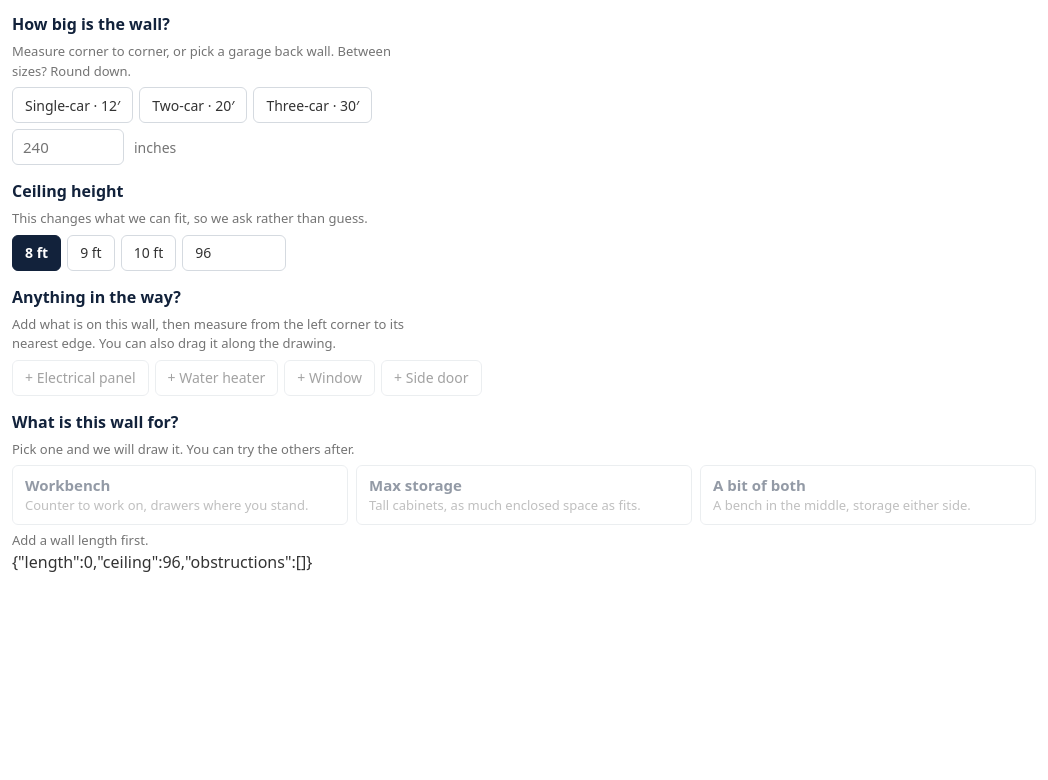
Scenario: WallInputs › allows more than one of the same thing
Type "360" into the number field named "wall length in inches". click: (68,147)
box: [12, 129, 124, 165]
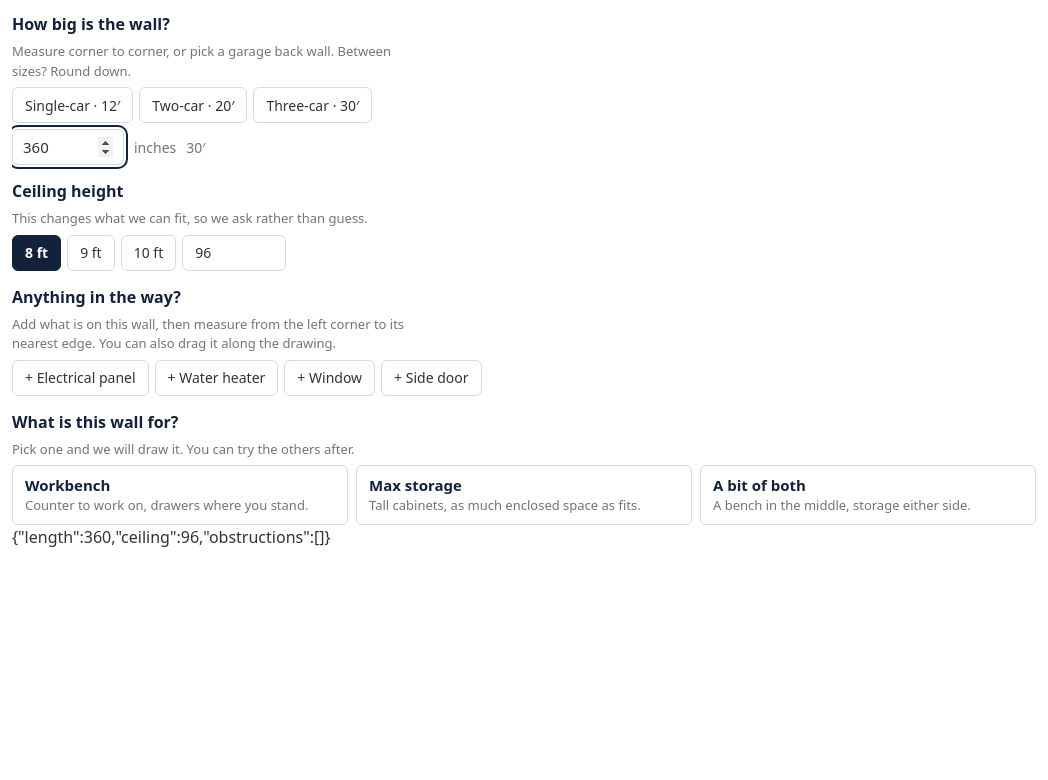
Click the button with aria-label "add window". click: (330,378)
box: [284, 360, 375, 396]
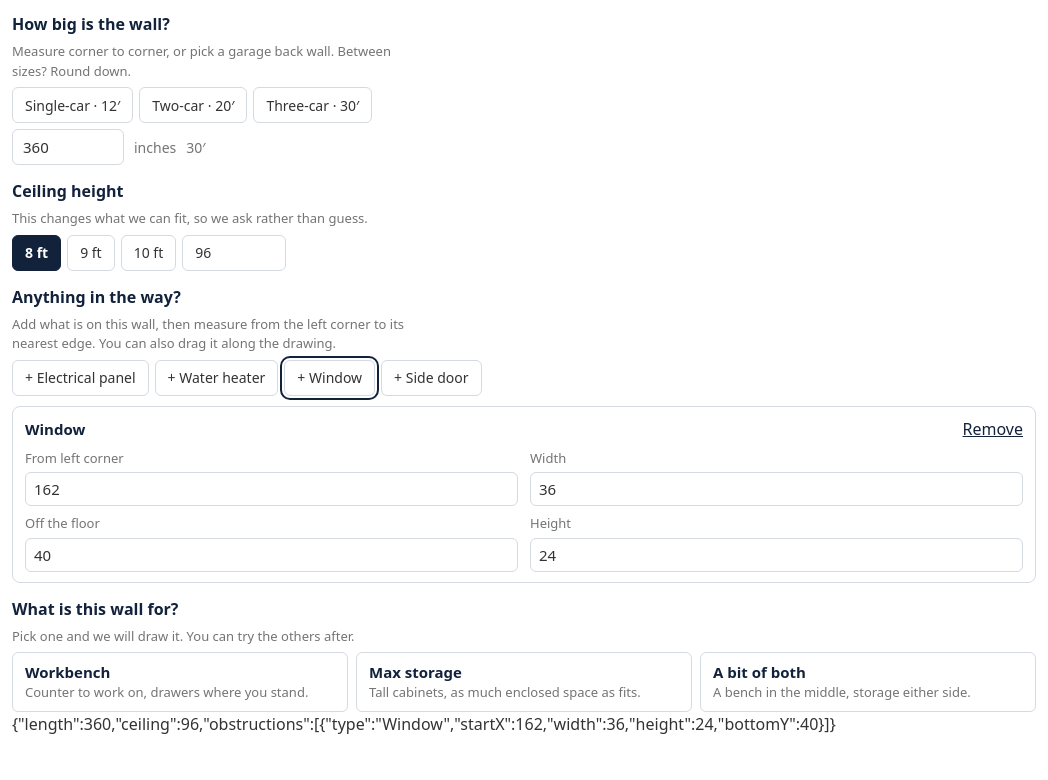
Click the button with aria-label "add window". click: (330,378)
box: [284, 360, 375, 396]
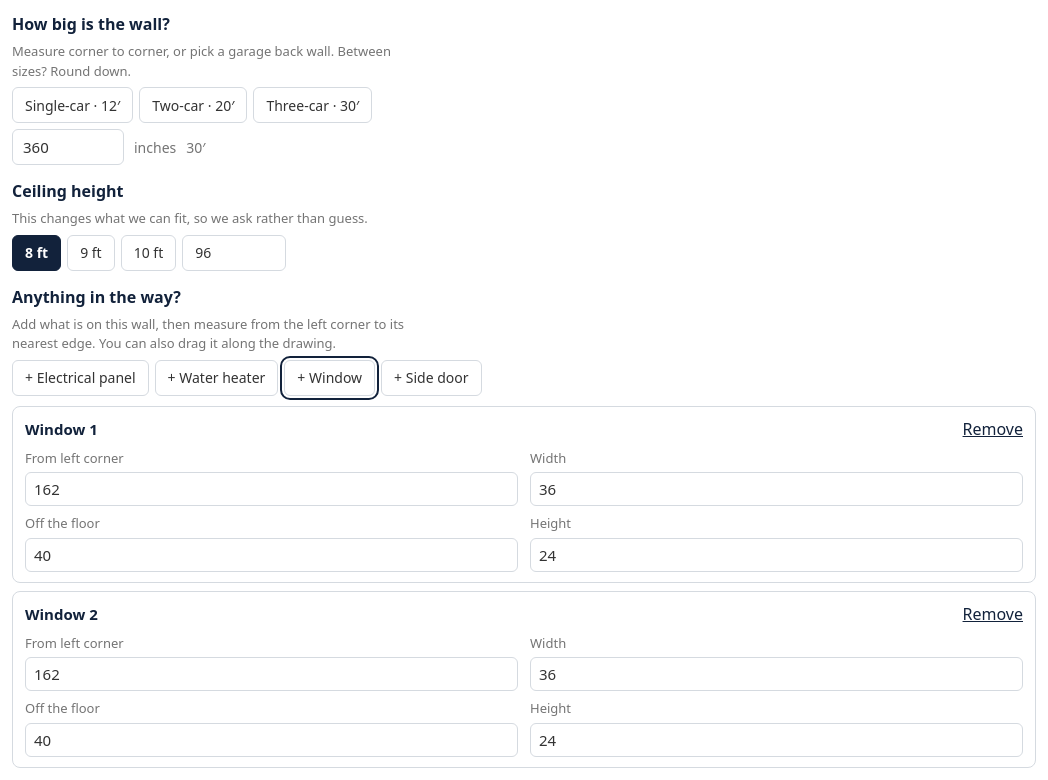
Expected: the number field named "window 2 from left corner" is shown, [25, 657, 518, 691]
